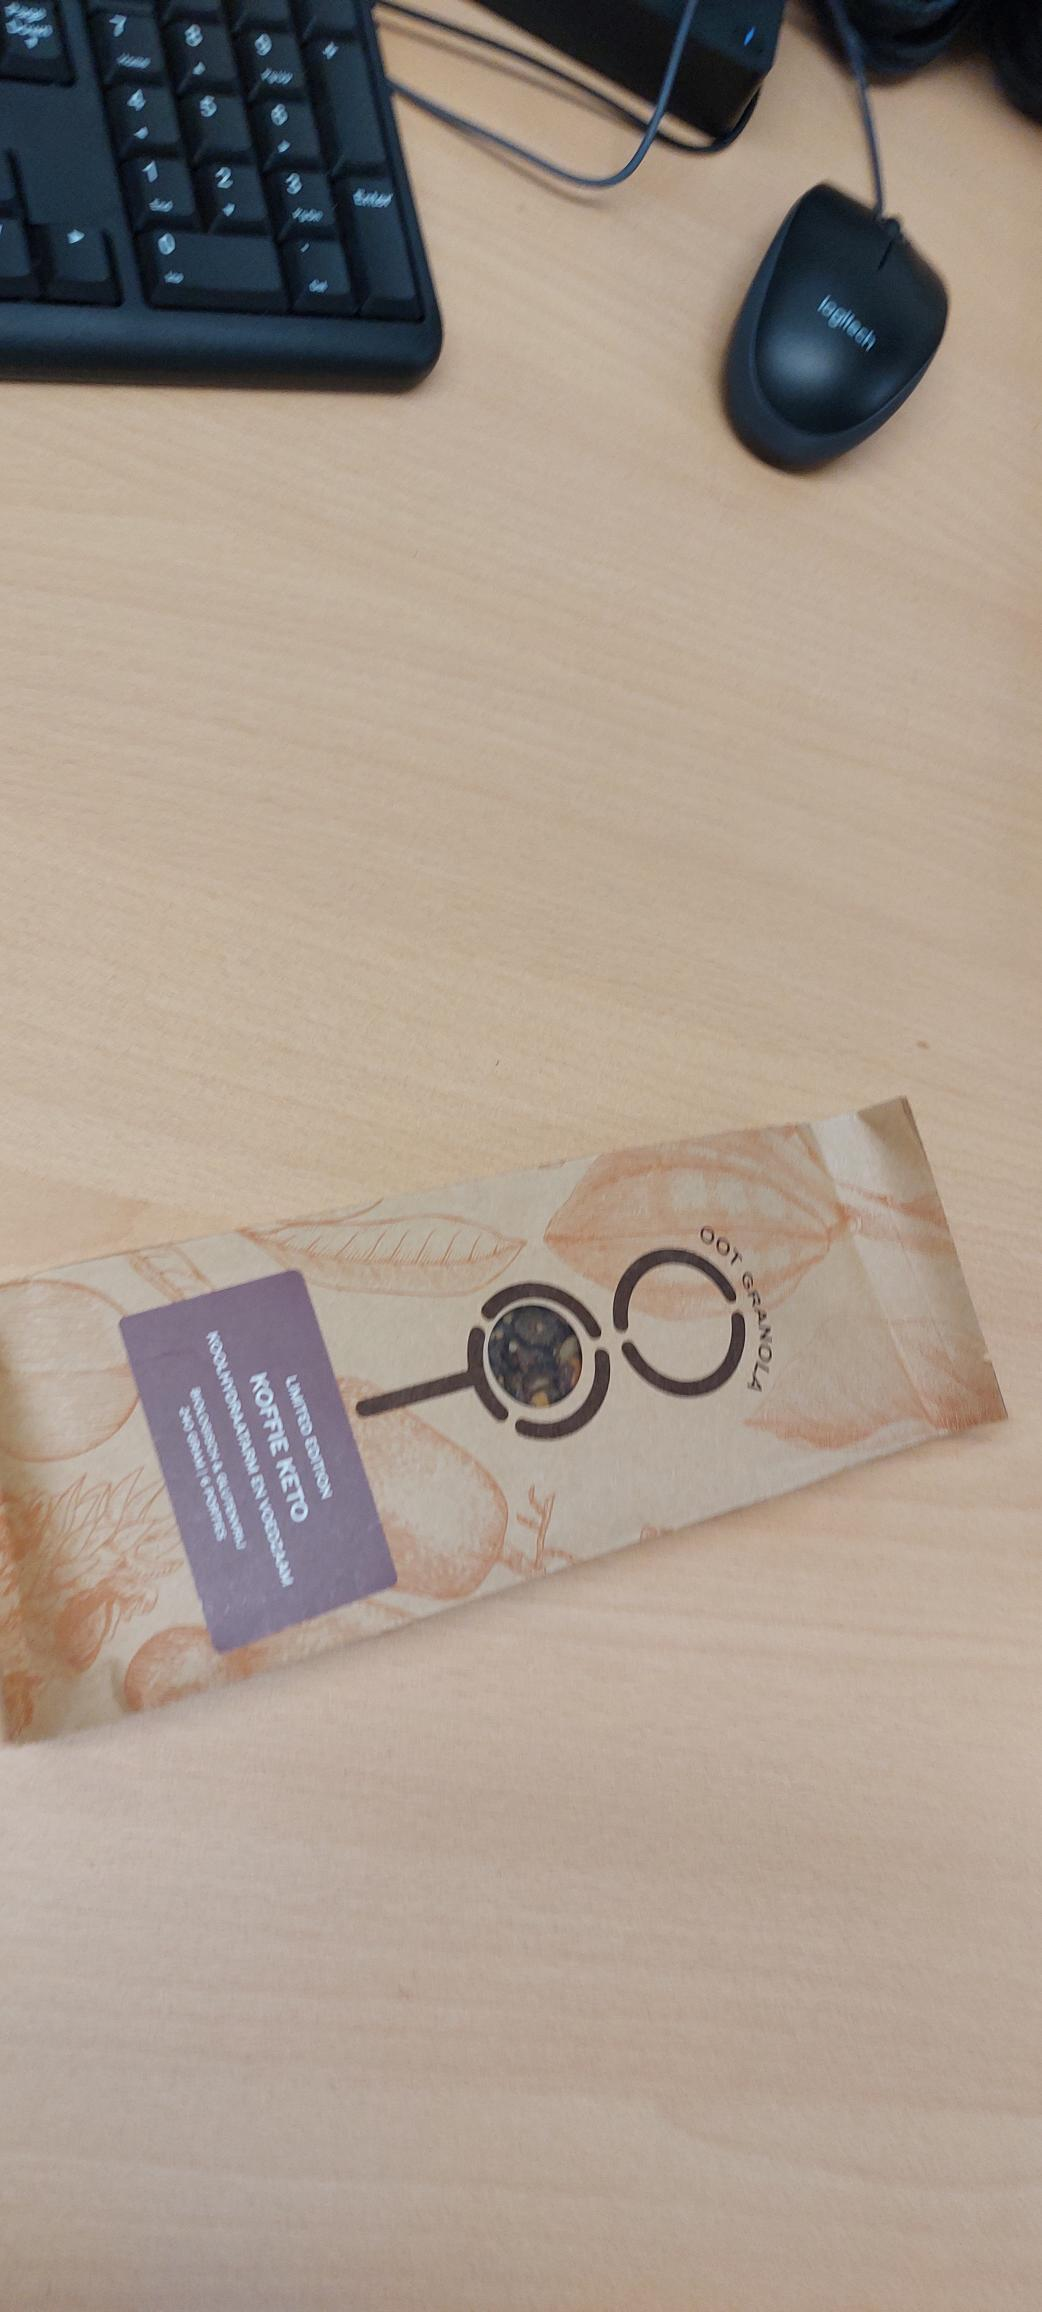KoffieKeto: (118, 1280, 355, 1615)
